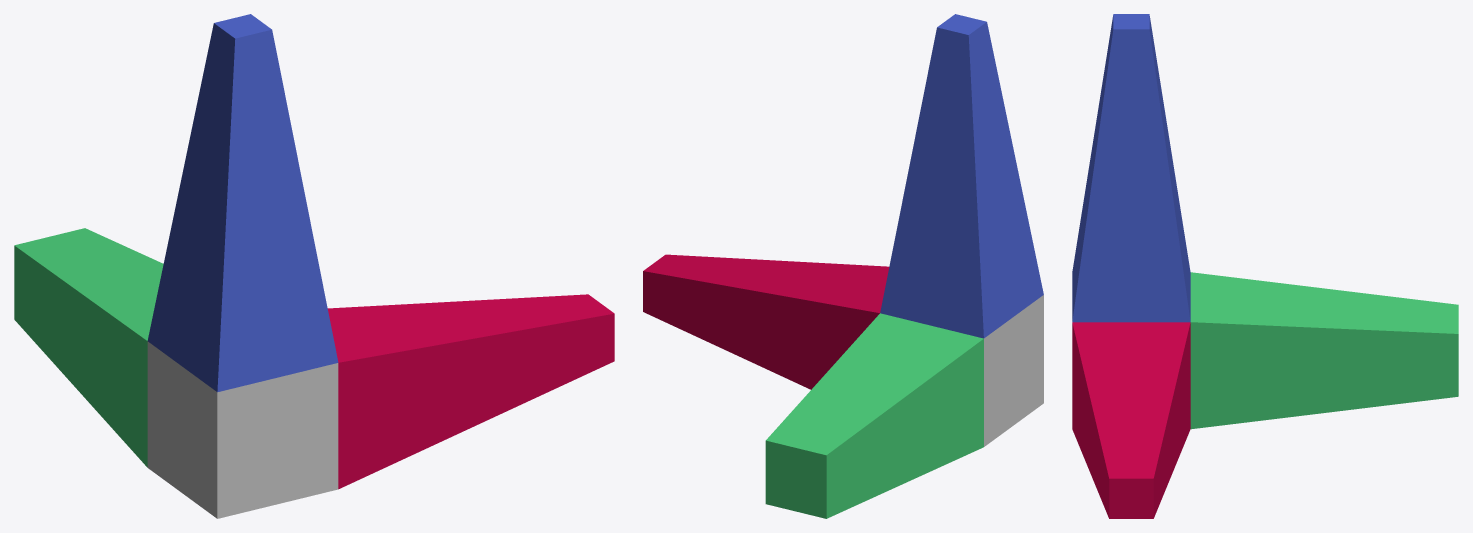
File: Cursor_3d_Dirrectional.fbx
The picture shows the model from 3 angles, left to right: view 1: azimuth 30°, elevation 25°; view 2: azimuth 150°, elevation 25°; view 3: azimuth 270°, elevation 25°; orthographic projection. The views are drawn at different scales.
Visible parts, largest first — view 1: CursorDirrectional; view 2: CursorDirrectional; view 3: CursorDirrectional.
Part boxes in pixels (box(x1,y1,x2,y2)): CursorDirrectional: box(14, 14, 614, 518); CursorDirrectional: box(643, 14, 1043, 518); CursorDirrectional: box(1072, 14, 1458, 518).
Size of the model in its own units: 6.93 by 7.14 by 6.53.
